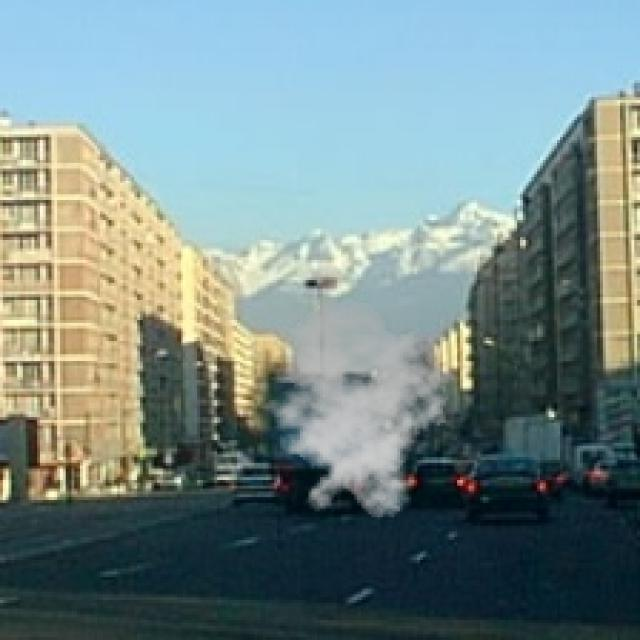smoke: (251, 300, 460, 520)
